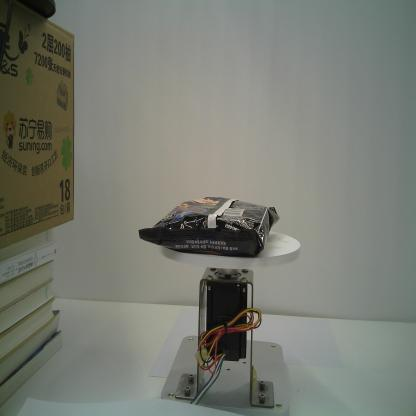Instant Noodles: (138, 195, 279, 258)
